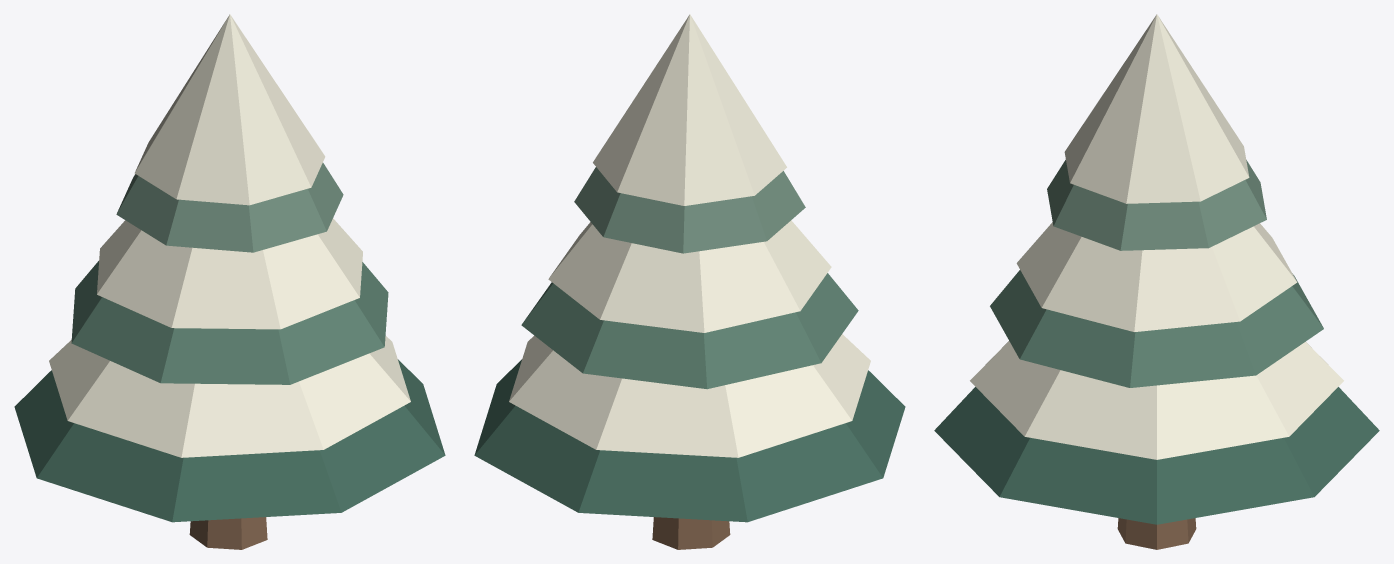
The model's file is pine-young.glb.
3 renders of one model, left to right at view 1: azimuth 30°, elevation 25°; view 2: azimuth 150°, elevation 25°; view 3: azimuth 270°, elevation 25°, orthographic.
Visible parts, largest first — view 1: pine-young; view 2: pine-young; view 3: pine-young.
Boxes of the visible parts, x1=… form: pine-young: x1=14, y1=14, x2=445, y2=549; pine-young: x1=474, y1=14, x2=905, y2=549; pine-young: x1=934, y1=14, x2=1379, y2=549.
Bounding box in the file's own units: 2.1 × 2.7 × 2.1.
